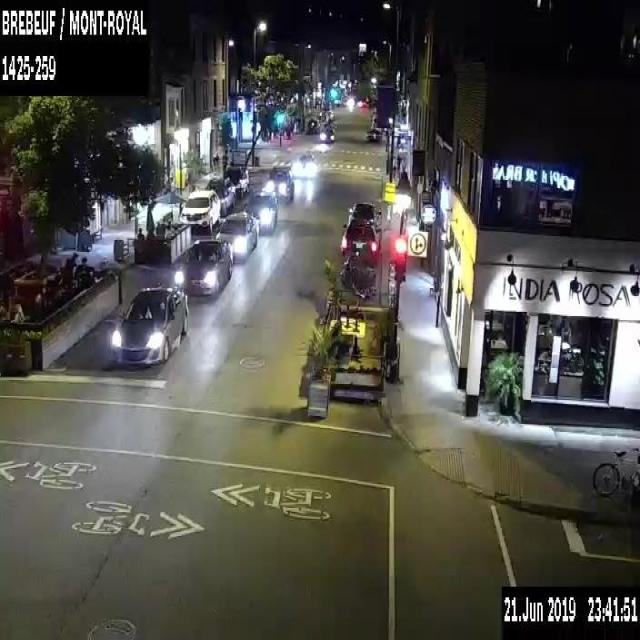pedestrian: (64, 251, 76, 277), (220, 142, 229, 170), (74, 256, 88, 274), (211, 148, 217, 171)
vehicle: (111, 284, 187, 364), (171, 240, 231, 296), (215, 210, 258, 262), (178, 190, 220, 232), (240, 192, 276, 234), (340, 224, 382, 258), (338, 258, 380, 292), (203, 174, 235, 210), (264, 164, 294, 200), (348, 200, 379, 229), (222, 165, 248, 197), (292, 152, 314, 179), (320, 125, 334, 142), (305, 117, 319, 132), (366, 126, 381, 140), (318, 111, 328, 123), (326, 110, 334, 118)
